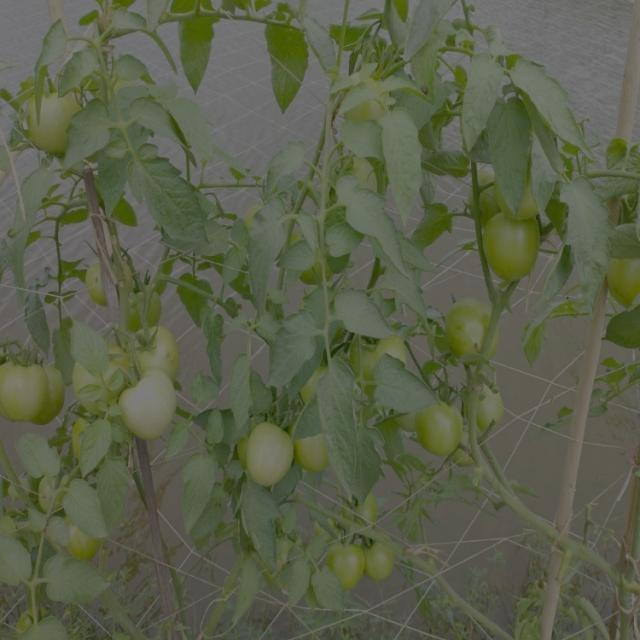tomato: (21, 72, 89, 155), (477, 214, 546, 286), (440, 295, 501, 365), (5, 344, 48, 436), (116, 379, 180, 438), (241, 419, 295, 488), (417, 392, 464, 462), (71, 349, 125, 406), (358, 329, 406, 385), (335, 152, 382, 206), (325, 532, 366, 591), (130, 334, 180, 377), (469, 379, 508, 434), (298, 429, 335, 480), (607, 248, 640, 305), (130, 280, 166, 329), (506, 177, 546, 220), (365, 537, 399, 587), (62, 521, 103, 562), (86, 257, 120, 305), (297, 236, 329, 286), (355, 75, 389, 120), (470, 165, 502, 210), (301, 358, 331, 405), (48, 360, 71, 419), (38, 476, 73, 514), (352, 488, 382, 531), (17, 601, 47, 640), (245, 207, 279, 241), (74, 417, 98, 462)
